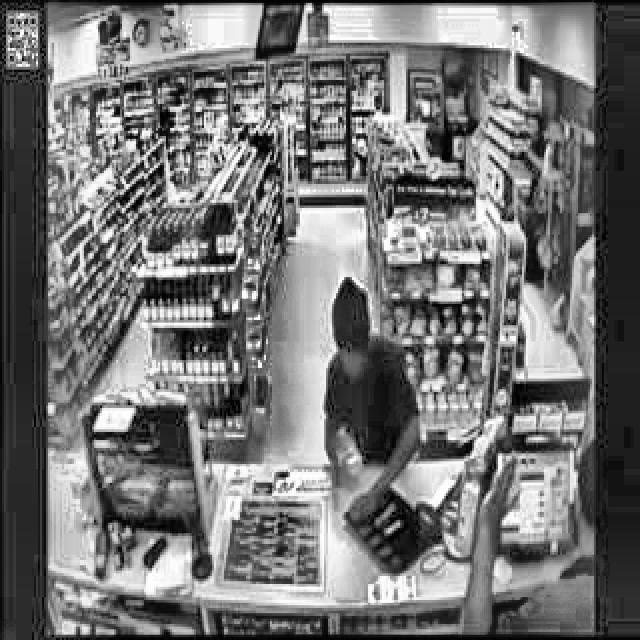robbery: (322, 277, 425, 530), (461, 438, 593, 633)
